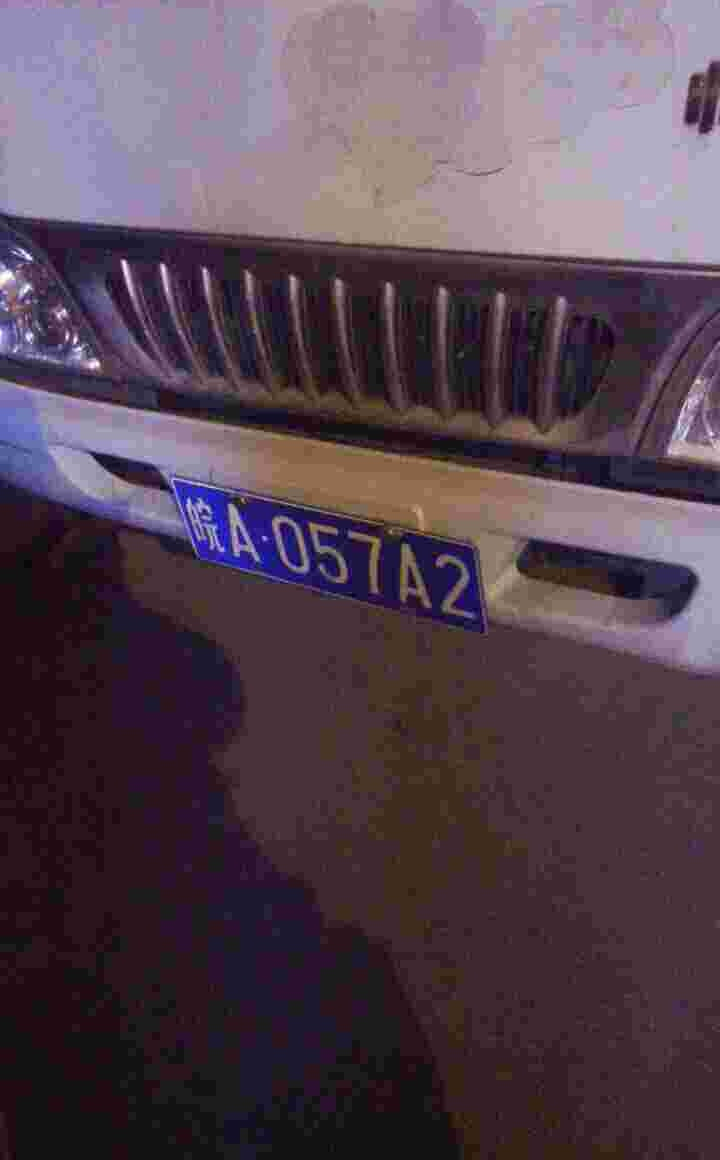license_plate: (171, 469, 480, 628)
